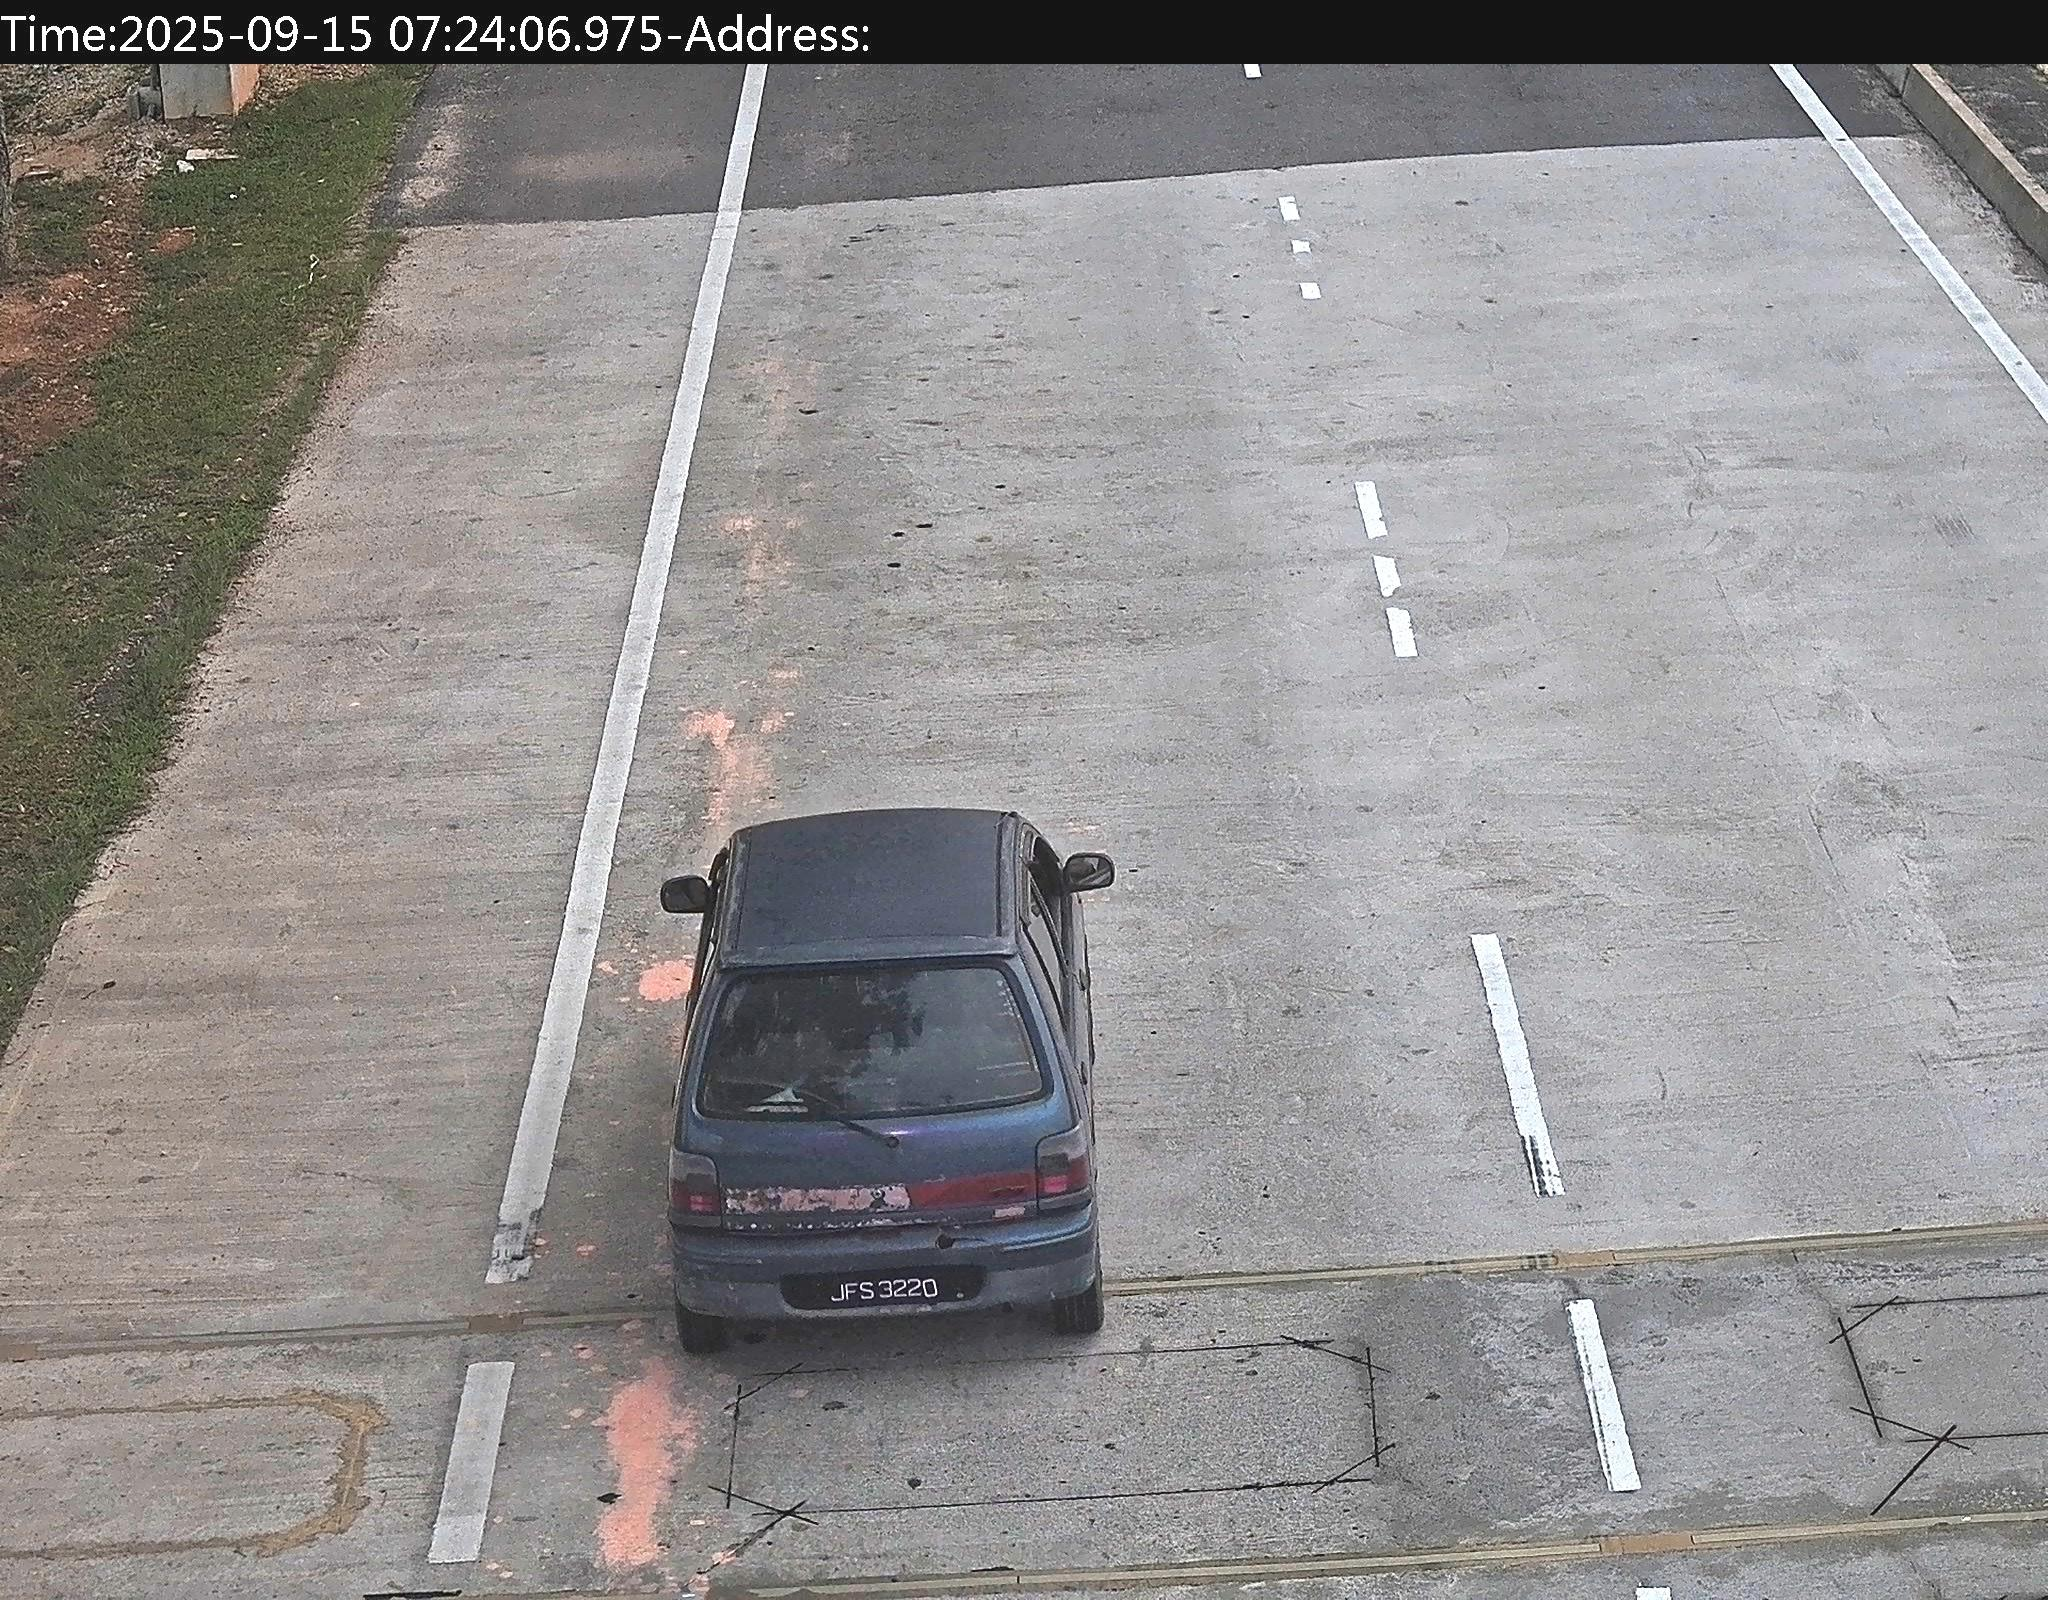non broken: (803, 1272, 959, 1312)
